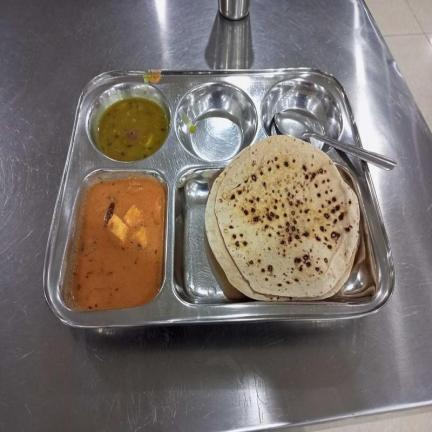Dal: (97, 95, 168, 160)
Paneer: (71, 176, 165, 311)
Plate: (43, 68, 396, 328)
Roti: (204, 136, 361, 300)
